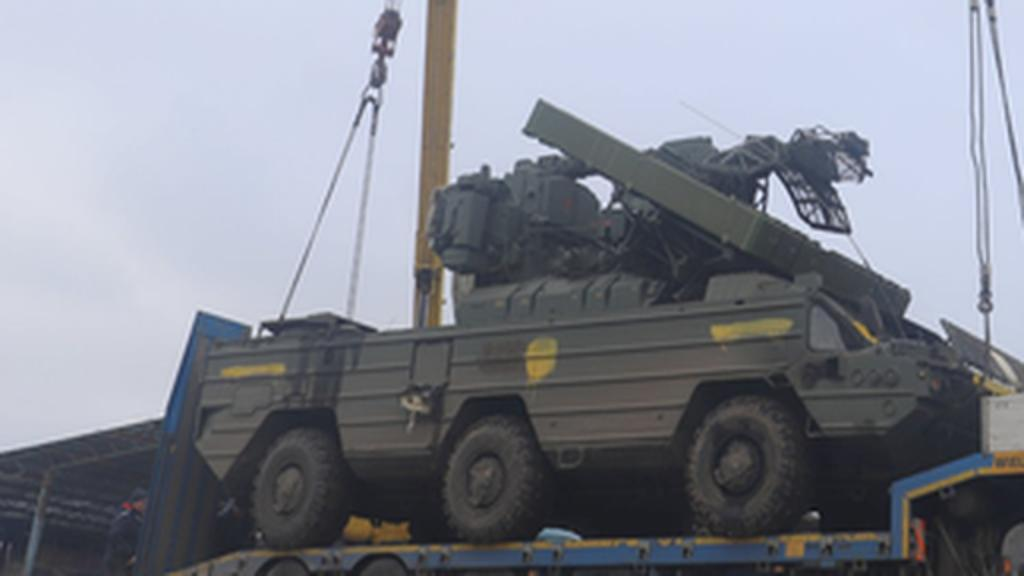MLRS: (100, 90, 986, 534)
